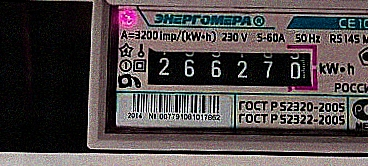0: (288, 58, 301, 80)
2: (156, 54, 171, 76), (235, 57, 248, 78)
6: (182, 57, 196, 77), (208, 58, 222, 77)
7: (260, 58, 274, 79)
screen: (137, 36, 325, 97)
